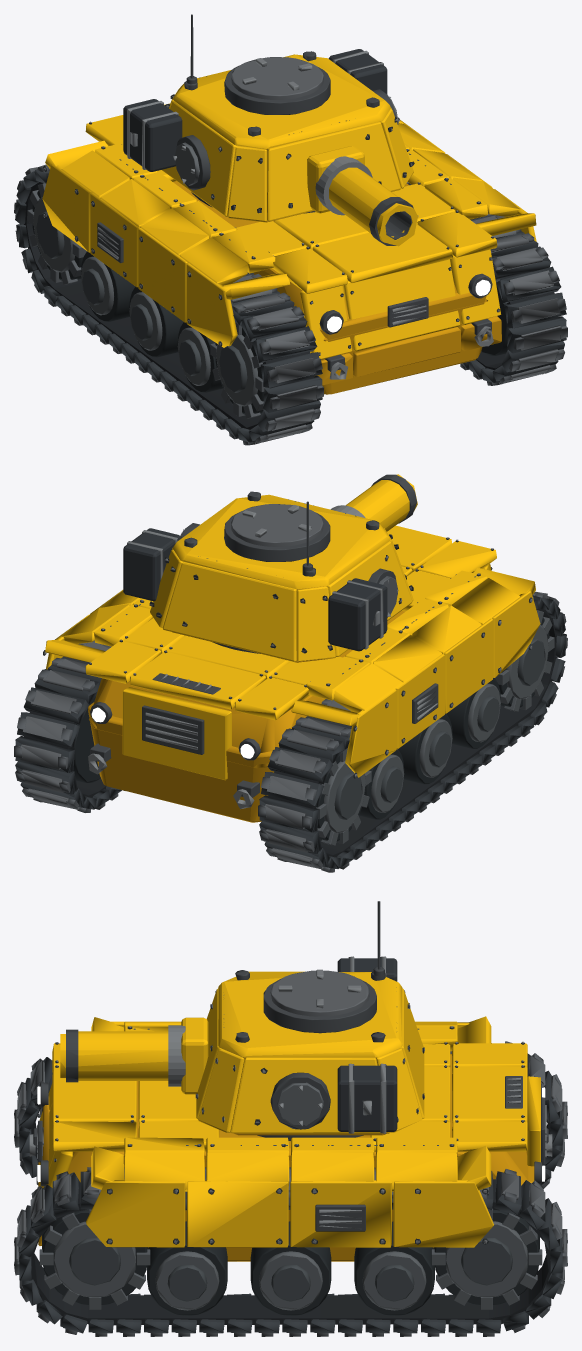
File: tank.glb
The picture shows the model from 3 angles, top to bottom: view 1: azimuth 30°, elevation 25°; view 2: azimuth 150°, elevation 25°; view 3: azimuth 270°, elevation 25°; orthographic projection. The views are drawn at different scales.
Parts seen in each view (by area): view 1: Hull, Turret, TrackLeft, TrackRight, Barrel, Hatch, WheelLeft1, WheelLeft5, WheelLeft3, WheelLeft4, WheelLeft2, WheelRight1; view 2: Hull, Turret, TrackLeft, TrackRight, Hatch, WheelLeft5, WheelLeft1, Barrel, WheelLeft2, WheelLeft3, WheelLeft4, WheelRight5; view 3: Hull, Turret, TrackRight, Barrel, WheelRight5, WheelRight1, Hatch, WheelRight3, WheelRight4, WheelRight2, TrackLeft.
Part boxes in pixels (x1,y1,x2,y2): Hull: (23, 103, 558, 429); Turret: (123, 49, 414, 222); TrackLeft: (14, 164, 323, 445); TrackRight: (407, 182, 567, 385); Barrel: (307, 146, 417, 246); Hatch: (224, 57, 330, 114); WheelLeft1: (210, 322, 266, 418); WheelLeft5: (27, 183, 86, 284); WheelLeft3: (129, 286, 183, 357); WheelLeft4: (81, 251, 135, 321); WheelLeft2: (177, 322, 223, 392); WheelRight1: (481, 282, 509, 355); Hull: (24, 525, 557, 857); Turret: (123, 491, 413, 662); TrackLeft: (258, 592, 567, 872); TrackRight: (14, 640, 124, 812); Hatch: (224, 504, 330, 561); WheelLeft5: (316, 748, 371, 845); WheelLeft1: (495, 610, 554, 711); Barrel: (330, 474, 417, 531); WheelLeft2: (446, 678, 500, 748); WheelLeft3: (398, 714, 452, 784); WheelLeft4: (359, 749, 404, 819); WheelRight5: (71, 696, 100, 782); Hull: (29, 1016, 555, 1325); Turret: (195, 956, 424, 1140); TrackRight: (14, 1167, 567, 1336); Barrel: (60, 1017, 208, 1094); WheelRight5: (431, 1208, 542, 1309); WheelRight1: (39, 1209, 150, 1309); Hatch: (263, 969, 376, 1033); WheelRight3: (250, 1221, 331, 1316); WheelRight4: (354, 1221, 434, 1316); WheelRight2: (147, 1221, 227, 1316); TrackLeft: (14, 1041, 567, 1188).
Bounding box in the file's own units: 1 × 0.9124 × 1.4.
